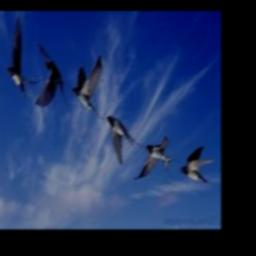Swallow: (7, 19, 37, 100), (72, 55, 107, 123), (135, 136, 177, 182), (36, 44, 66, 108), (106, 116, 143, 163), (181, 147, 214, 188)
